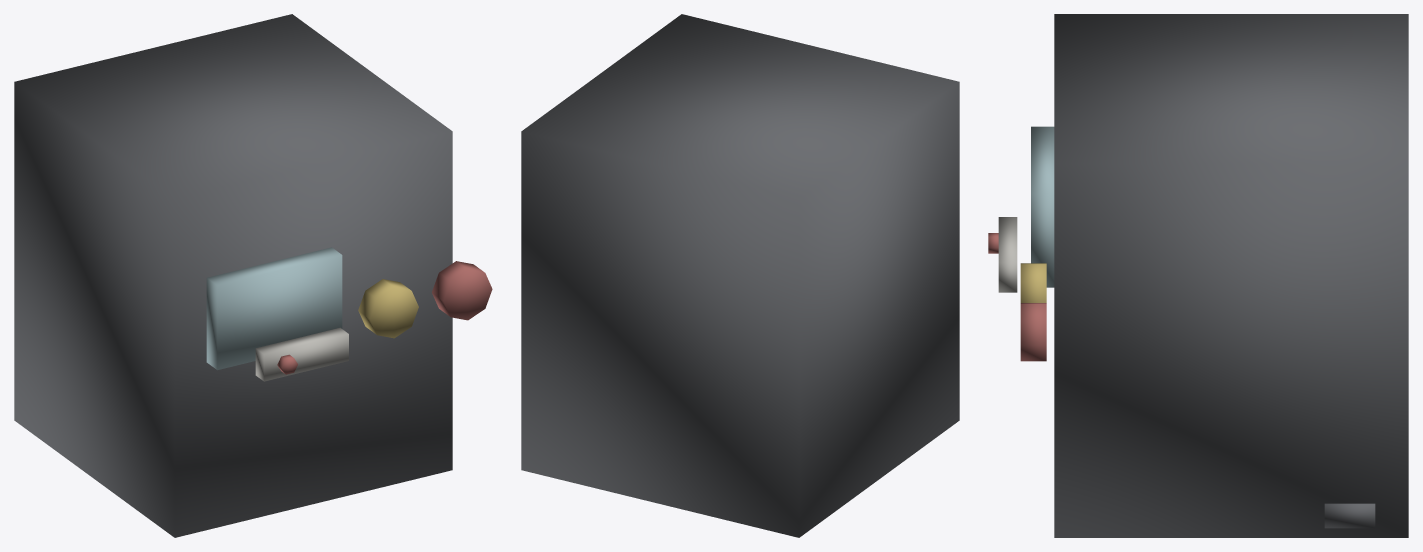
The model's file is multimeter_station__reinforced.glb.
3 renders of one model, left to right at view 1: azimuth 30°, elevation 25°; view 2: azimuth 150°, elevation 25°; view 3: azimuth 270°, elevation 25°, orthographic. The views are drawn at different scales.
Visible parts, largest first — view 1: world; view 2: world; view 3: world.
Boxes of the visible parts, box(x1,y1,x2,y2) form: world: box(14, 14, 492, 537); world: box(521, 14, 959, 537); world: box(988, 14, 1408, 537).
Bounding box in the file's own units: 0.3811 × 0.408 × 0.4156.
